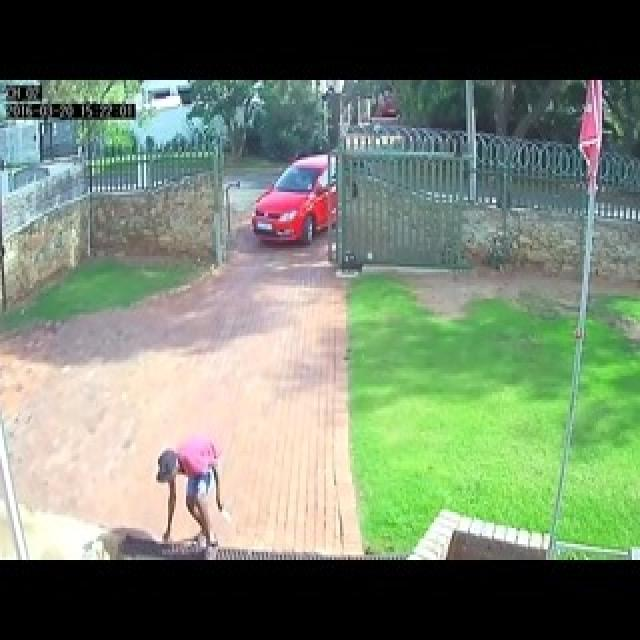thief: (137, 428, 230, 551)
